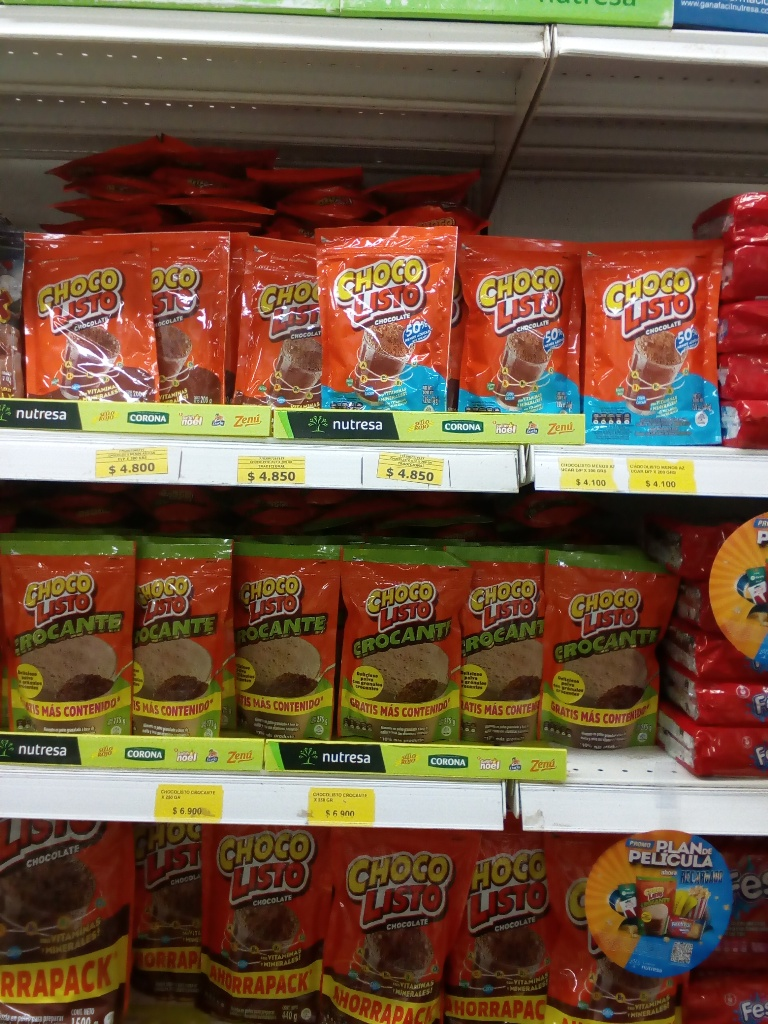COL0170102DYP25000: (1, 539, 134, 736)
COL0170103DYP1,500: (3, 823, 135, 1023)
COL0170103DYP20000: (8, 226, 164, 408)
COL0170103DYP40000: (199, 830, 331, 1024)
COL0170103DYP44000: (135, 829, 214, 1014)
COL0170104DYP20000: (317, 233, 450, 421)
